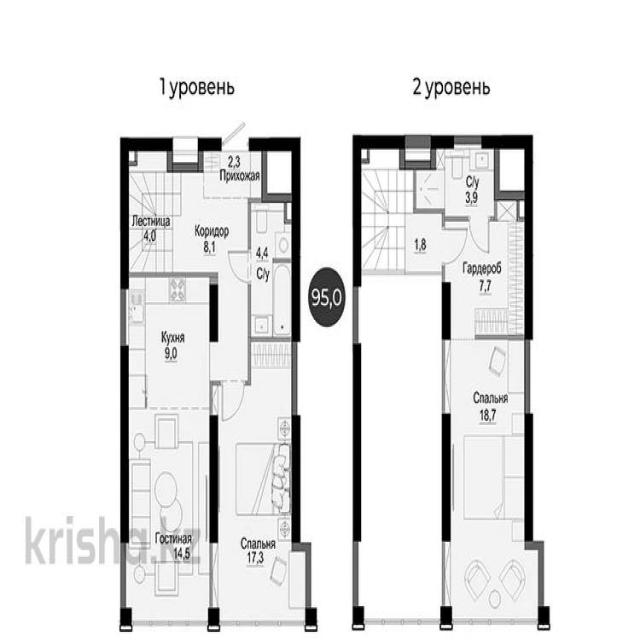bathroom: (249, 200, 295, 337), (434, 147, 496, 216)
hallway: (179, 200, 246, 269), (204, 148, 263, 200)
living_room: (449, 340, 525, 620), (218, 381, 299, 622)
other: (446, 219, 524, 334), (127, 150, 176, 271)
studio: (127, 277, 212, 619)
